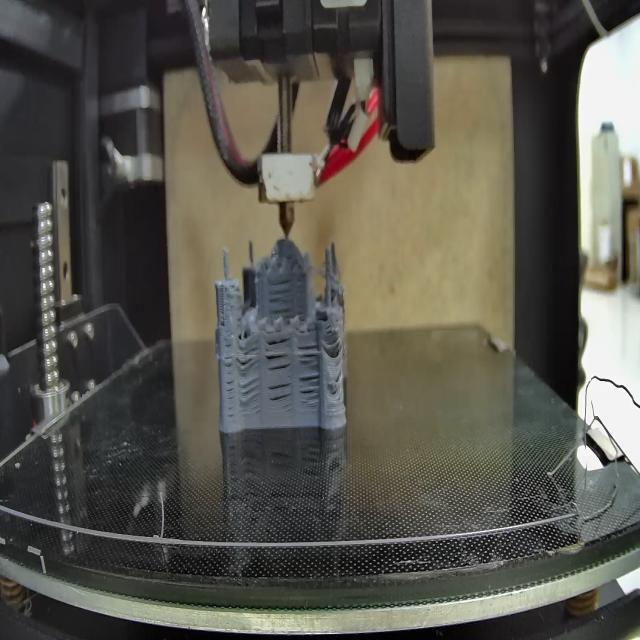cracks: (295, 344, 320, 410), (267, 273, 294, 319), (266, 333, 294, 372), (223, 339, 234, 428), (269, 379, 296, 409), (238, 378, 258, 407), (236, 345, 257, 372), (325, 333, 344, 359), (327, 372, 344, 397), (220, 312, 226, 330)
